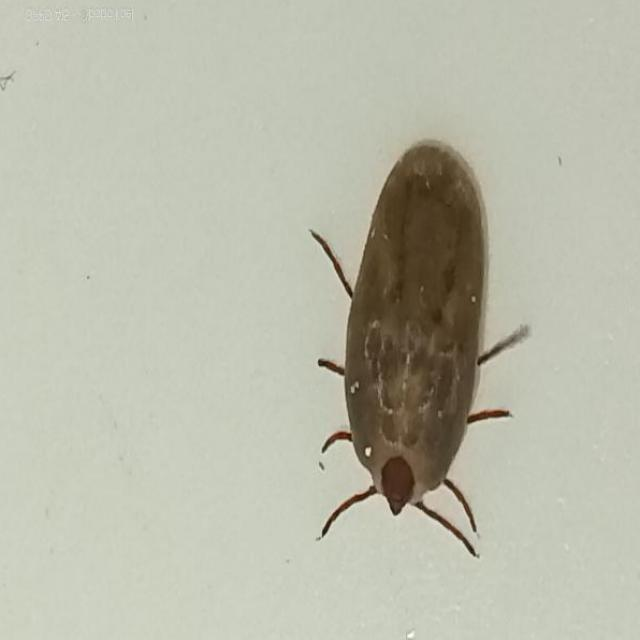Rhipicephalus Sanguineus-F-Fed: (309, 138, 532, 557)
